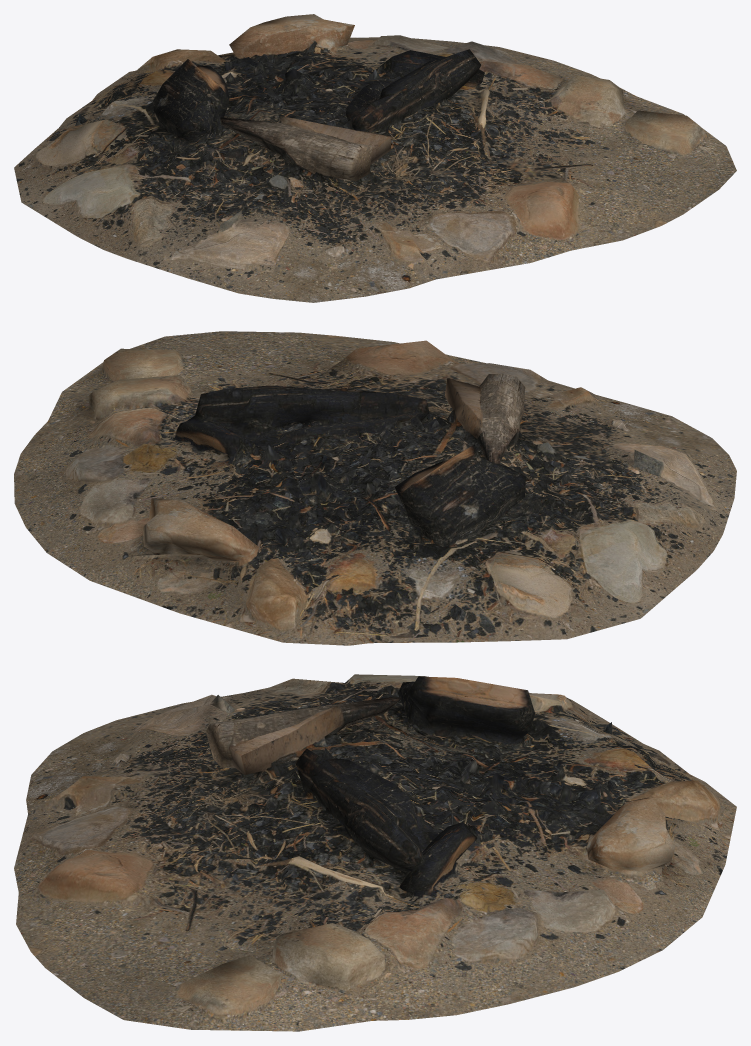
Rendered from campfire_uenpfeifa_low.glb.
3 renders of one model, top to bottom at view 1: azimuth 30°, elevation 25°; view 2: azimuth 150°, elevation 25°; view 3: azimuth 270°, elevation 25°, orthographic. The views are drawn at different scales.
Parts seen in each view (by area): view 1: uenpfeifa_LOD0_TIER3_000; view 2: uenpfeifa_LOD0_TIER3_000; view 3: uenpfeifa_LOD0_TIER3_000.
Part boxes in pixels (x1=…): uenpfeifa_LOD0_TIER3_000: x1=14, y1=14, x2=736, y2=302; uenpfeifa_LOD0_TIER3_000: x1=14, y1=331, x2=736, y2=645; uenpfeifa_LOD0_TIER3_000: x1=14, y1=674, x2=736, y2=1031.
Size of the model in its own units: 1.41 by 0.2111 by 1.24.
Materials: 1 (1 with a texture image).
